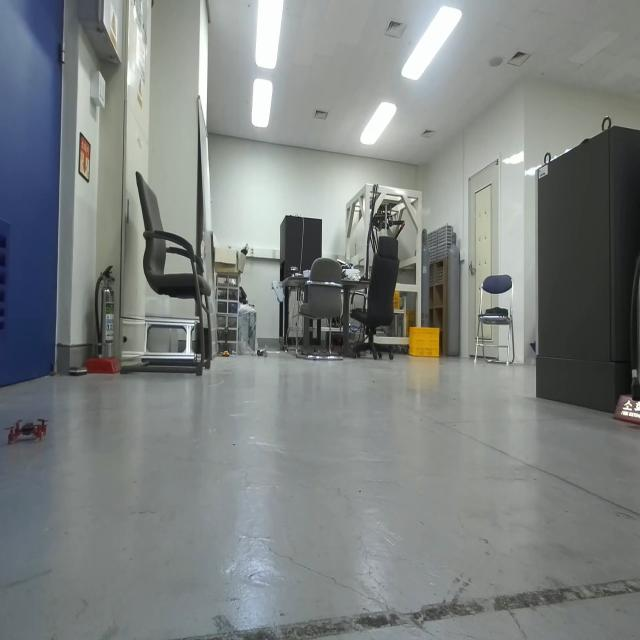crazyflie: (2, 413, 50, 448)
